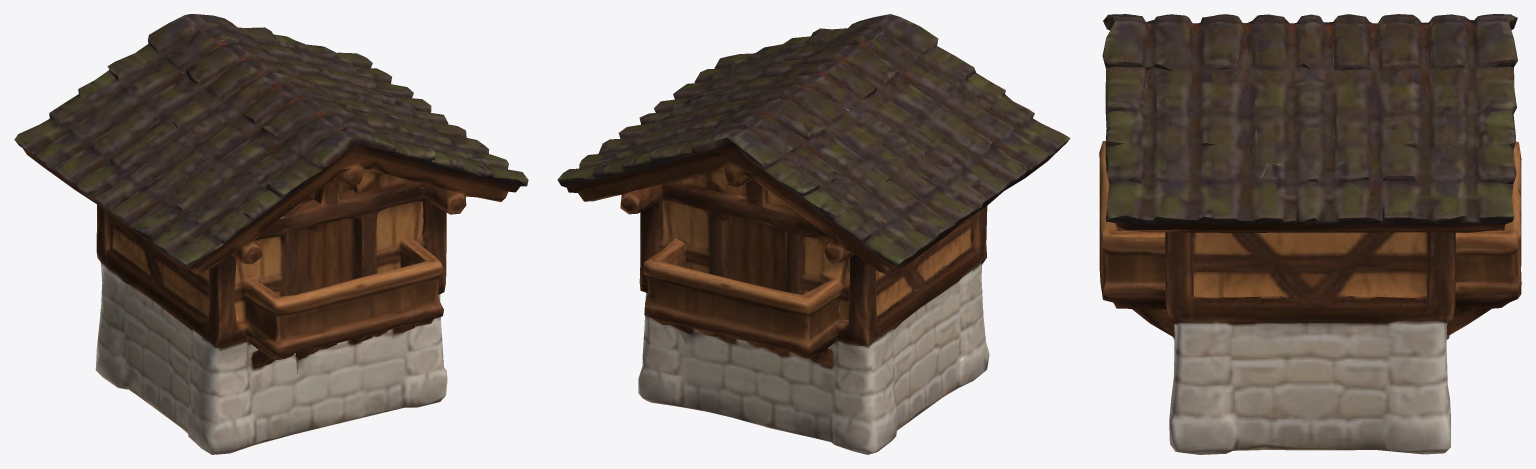
File: village_mountain_b.glb
3 renders of one model, left to right at view 1: azimuth 30°, elevation 25°; view 2: azimuth 150°, elevation 25°; view 3: azimuth 270°, elevation 25°, orthographic. The views are drawn at different scales.
Parts seen in each view (by area): view 1: world; view 2: world; view 3: world.
Part boxes in pixels (x1=…): world: x1=14, y1=14, x2=528, y2=454; world: x1=557, y1=14, x2=1070, y2=454; world: x1=1099, y1=14, x2=1521, y2=454.
Bounding box in the file's own units: 1 × 0.8597 × 0.8869.
Materials: 1 (1 with a texture image).
